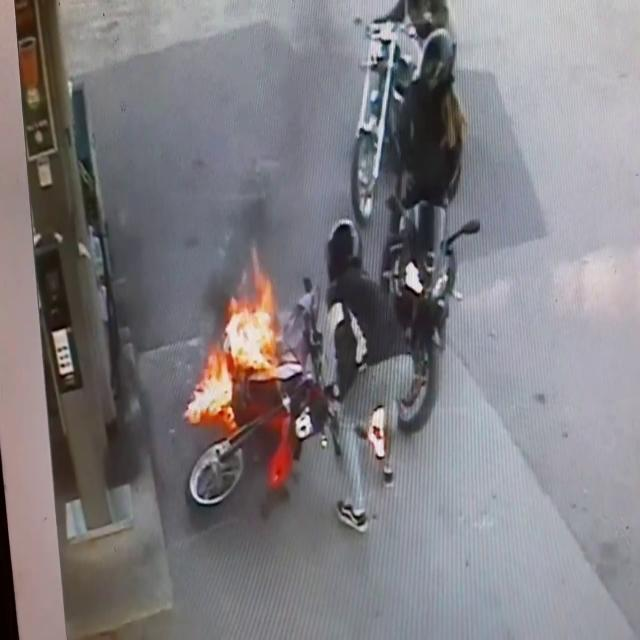Fire: (184, 255, 290, 423)
